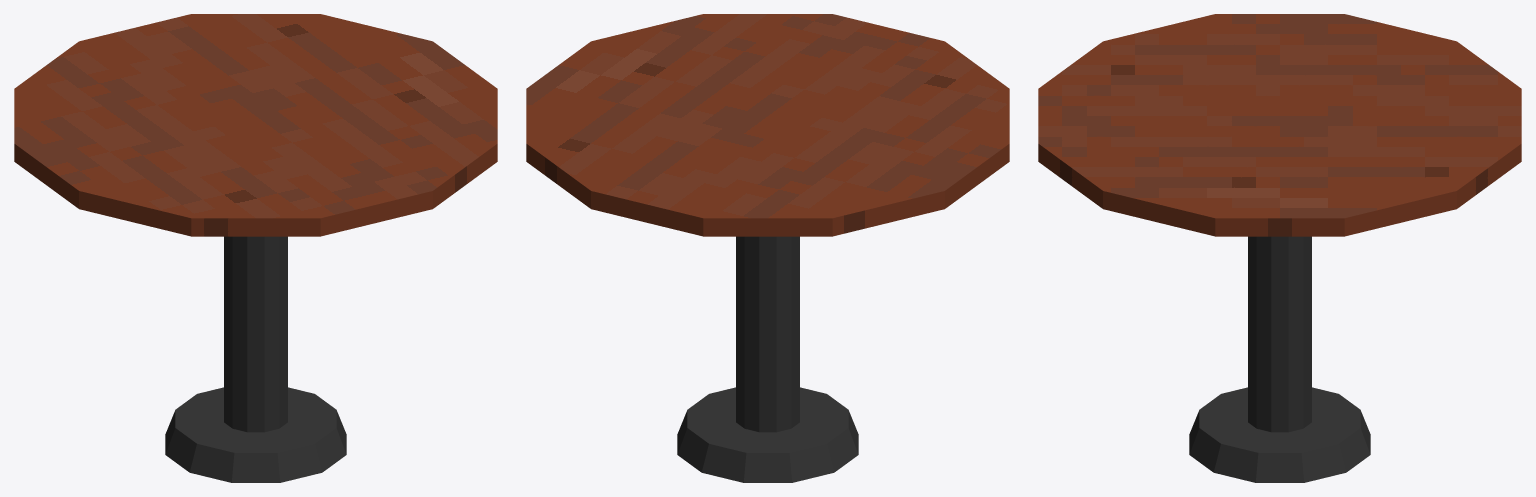
Rendered from high table 1.gltf.
3 views of the same model, side by side, from view 1: azimuth 30°, elevation 25°; view 2: azimuth 150°, elevation 25°; view 3: azimuth 270°, elevation 25° (orthographic).
Parts seen in each view (by area): view 1: cylinder; view 2: cylinder; view 3: cylinder.
Part boxes in pixels (x1,y1,x2,y2): cylinder: (14,14,497,482); cylinder: (526,14,1009,482); cylinder: (1038,14,1521,482).
Size of the model in its own units: 1.5 by 1.12 by 1.5.
1 material, 1 textured.
